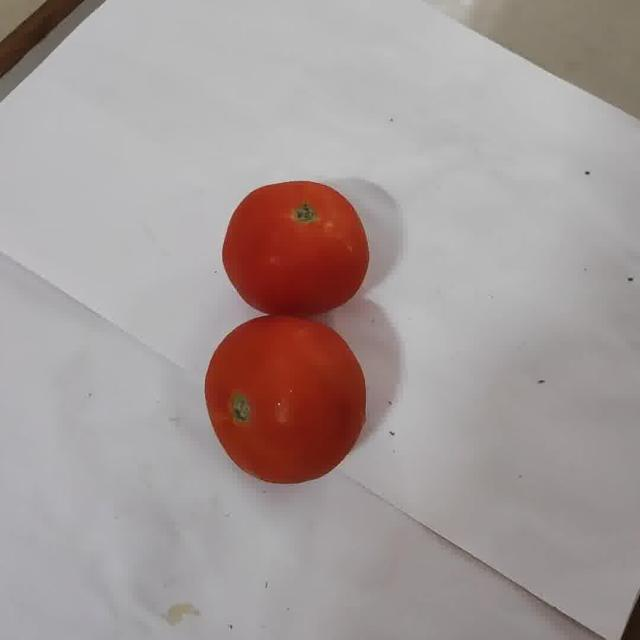Tomato: (205, 316, 365, 483), (222, 181, 369, 315)
